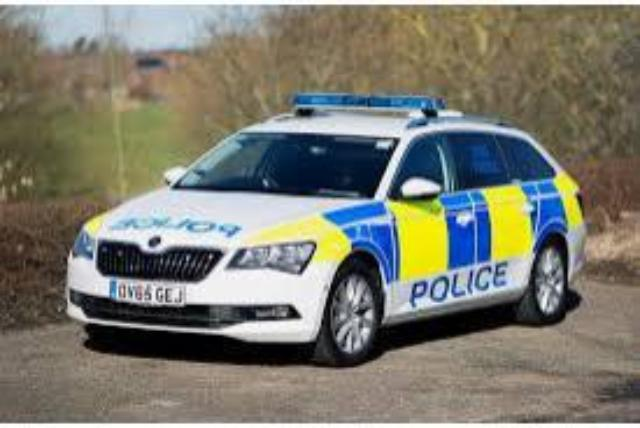police: (62, 93, 590, 368)
